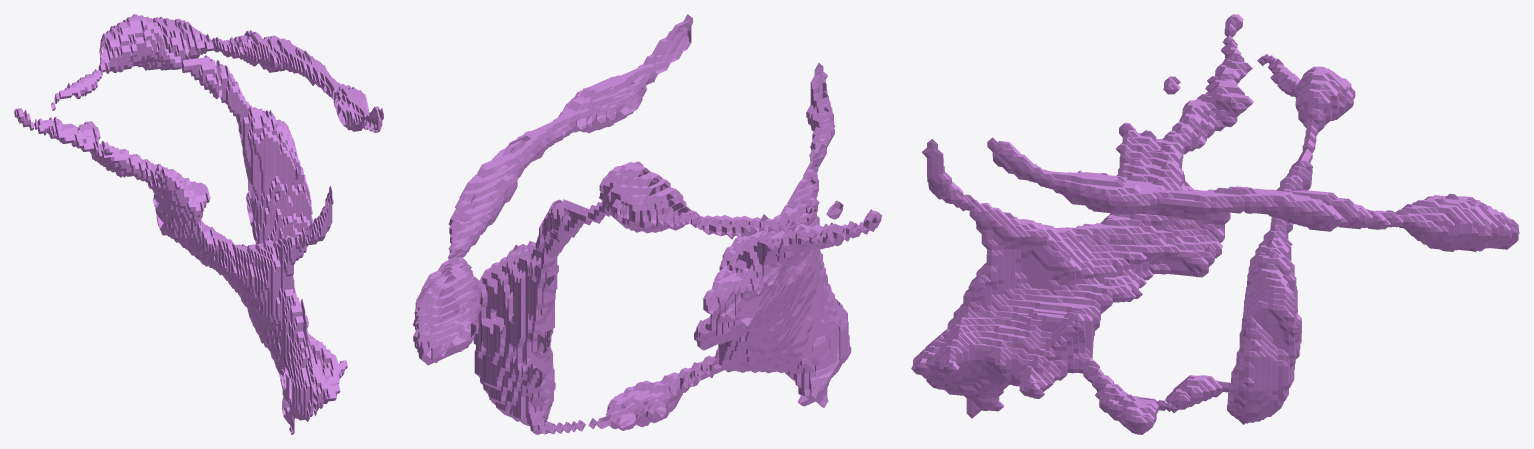
Rendered from SVV_CEPDR.gltf.
The picture shows the model from 3 angles, left to right: view 1: azimuth 30°, elevation 25°; view 2: azimuth 150°, elevation 25°; view 3: azimuth 270°, elevation 25°; orthographic projection. The views are drawn at different scales.
Parts seen in each view (by area): view 1: CEPDR; view 2: CEPDR; view 3: CEPDR.
Part boxes in pixels (x1=…): CEPDR: x1=14, y1=14, x2=383, y2=434; CEPDR: x1=412, y1=14, x2=882, y2=434; CEPDR: x1=911, y1=14, x2=1519, y2=434.
Bounding box in the file's own units: 47970 × 46170 × 73720.
